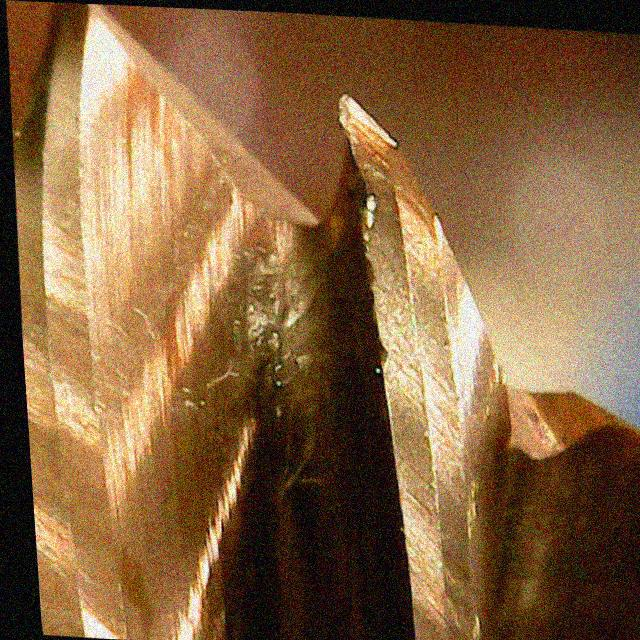Tool-wear-class-1: (303, 80, 484, 370)
